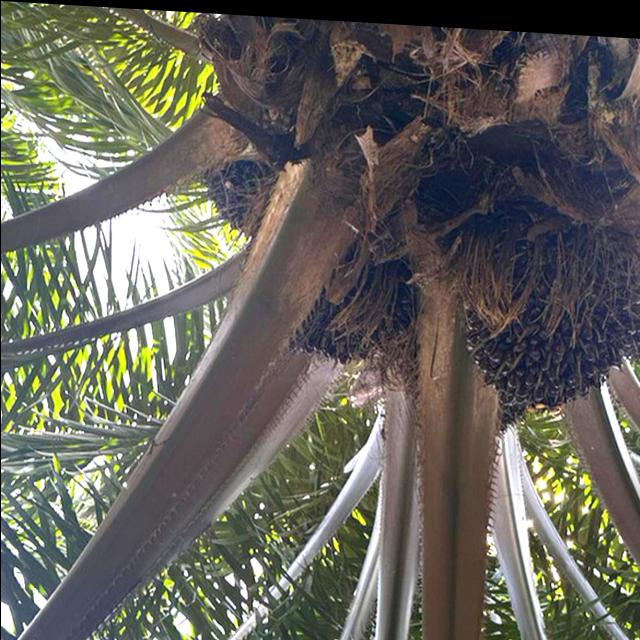almost: (453, 195, 635, 432), (281, 208, 421, 394)
